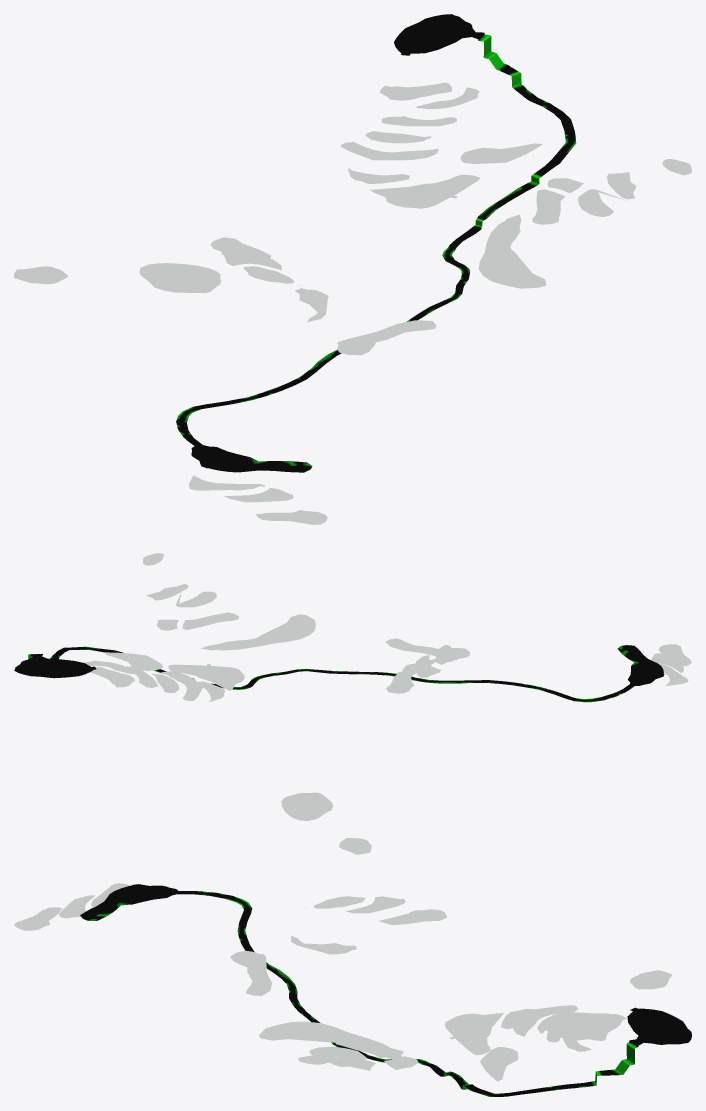
3 renders of one model, top to bottom at view 1: azimuth 30°, elevation 25°; view 2: azimuth 150°, elevation 25°; view 3: azimuth 270°, elevation 25°, orthographic. The views are drawn at different scales.
Visible parts, largest first — view 1: G:\FFXIV-MapTools\exports\e3f2\bg\ex2\02_est_e3\fld\e3f2\bgp (×2); view 2: G:\FFXIV-MapTools\exports\e3f2\bg\ex2\02_est_e3\fld\e3f2\bgp (×2); view 3: G:\FFXIV-MapTools\exports\e3f2\bg\ex2\02_est_e3\fld\e3f2\bgp (×2).
Part boxes in pixels (x1=…): G:\FFXIV-MapTools\exports\e3f2\bg\ex2\02_est_e3\fld\e3f2\bgp (×2): x1=14, y1=14, x2=691, y2=524; G:\FFXIV-MapTools\exports\e3f2\bg\ex2\02_est_e3\fld\e3f2\bgp (×2): x1=14, y1=553, x2=691, y2=854; G:\FFXIV-MapTools\exports\e3f2\bg\ex2\02_est_e3\fld\e3f2\bgp (×2): x1=14, y1=883, x2=691, y2=1096.
Bounding box in the file's own units: 561 × 124 × 598.
